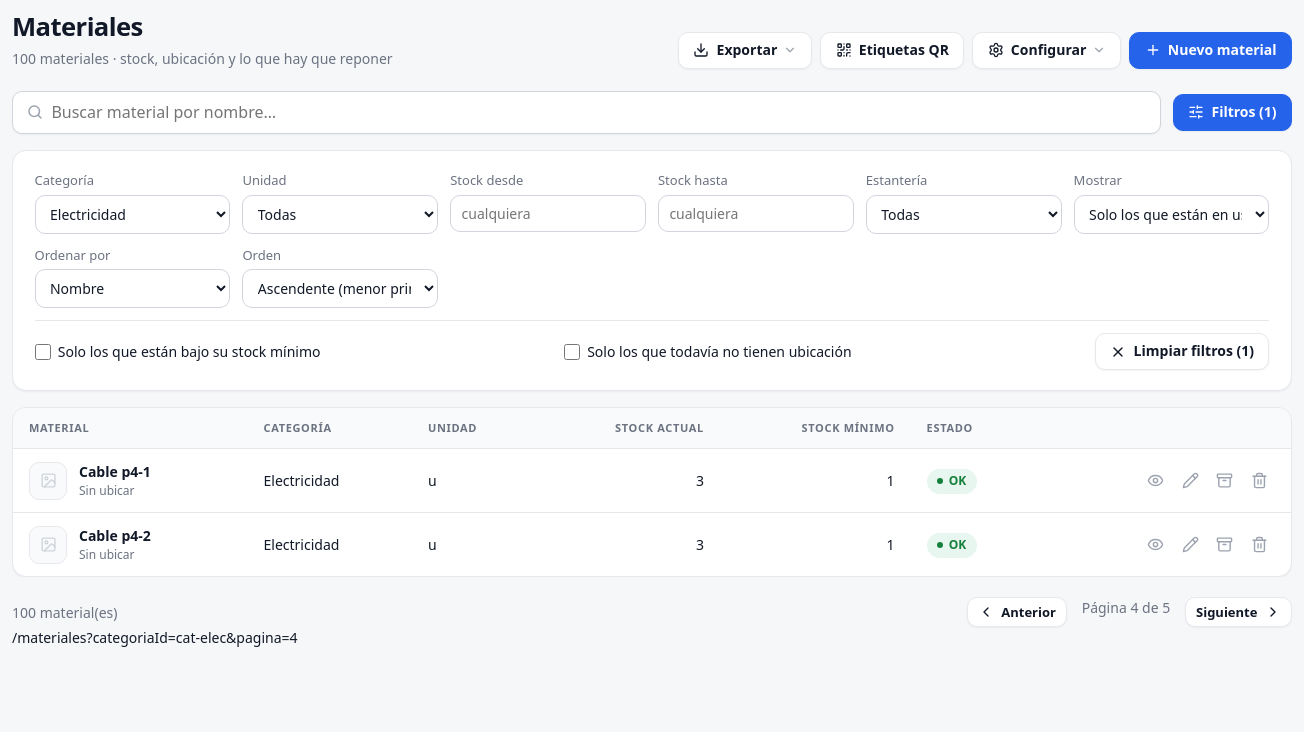
volver a la lista de materiales › cambiar el filtro vuelve a la página 1: la de antes puede no existir
The width and height of the screenshot is (1304, 732).
Expected: the text "Página 4 de 5" is shown, [1082,598,1170,618]
Select "Rodamientos" in the dropdown labelled "Categoría" at (132,214), box [35,195,230,234]
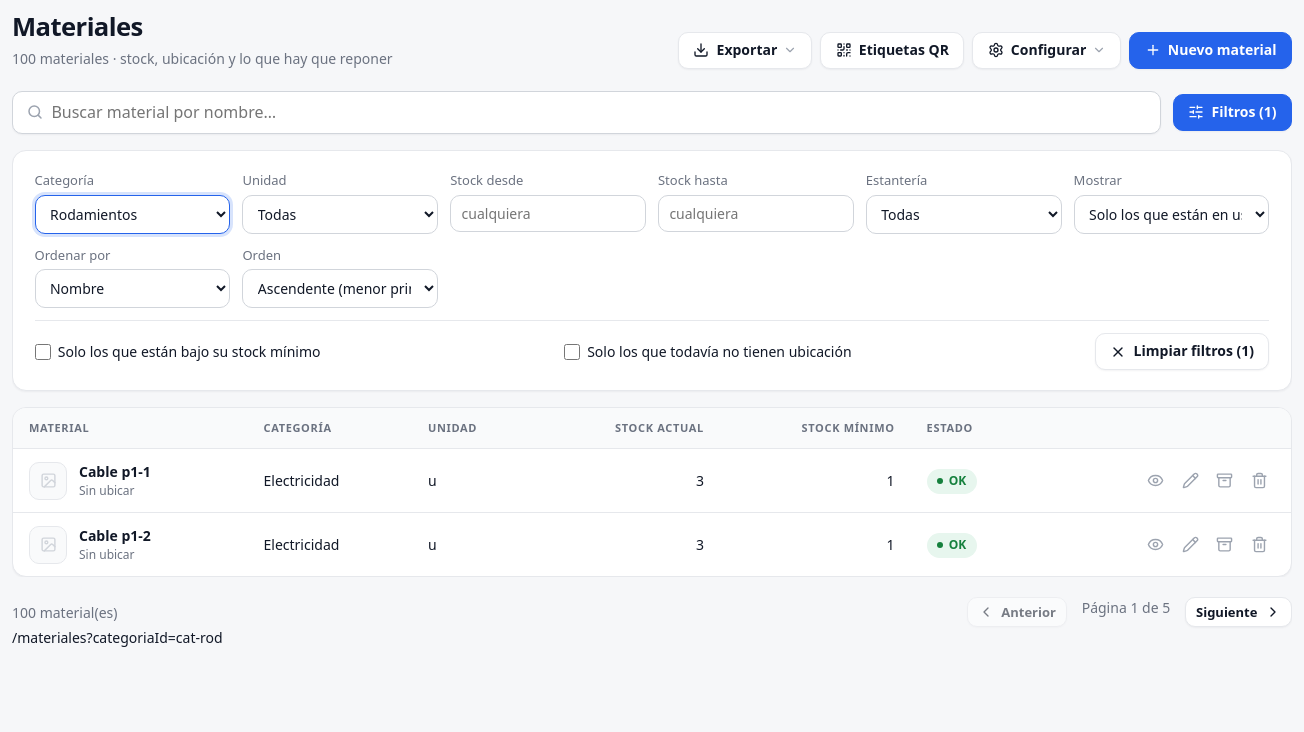
Result: the text with test id "direccion" reads "/materiales?categoriaId=cat-rod" at [12,628,223,647]
Result: the text "Página 1 de 5" is shown at [1082,598,1170,618]
